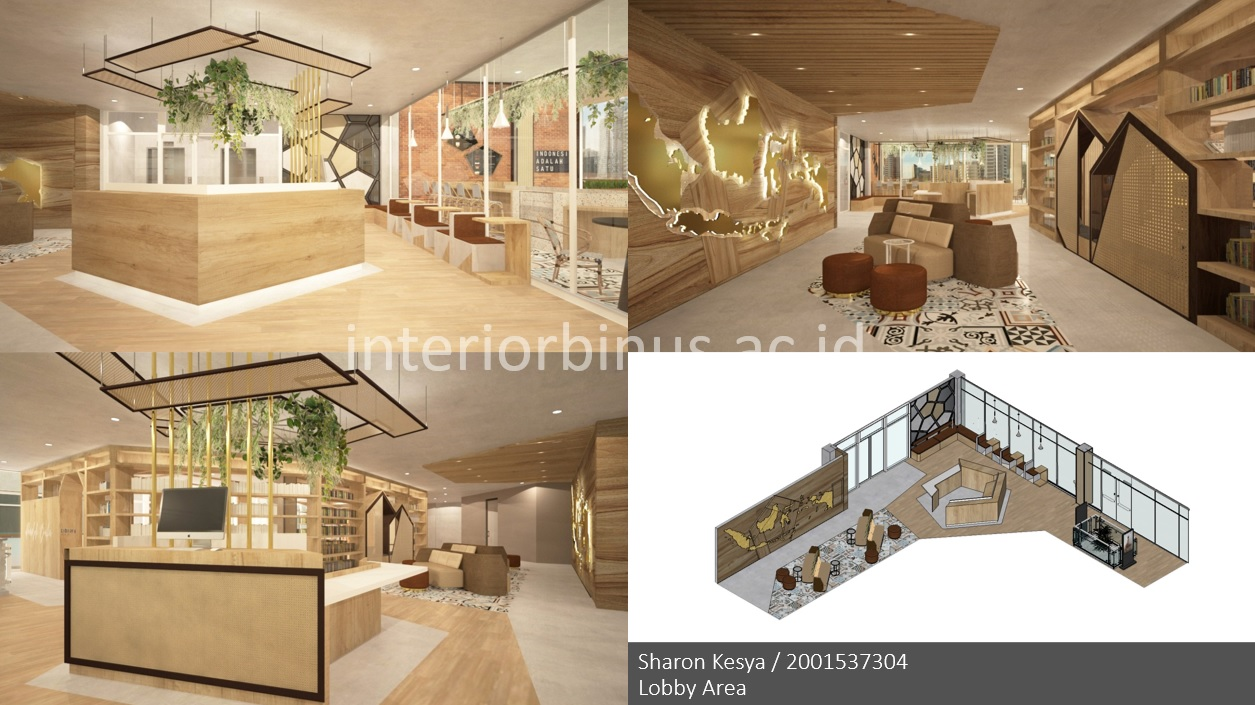sova: (863, 203, 1016, 290)
